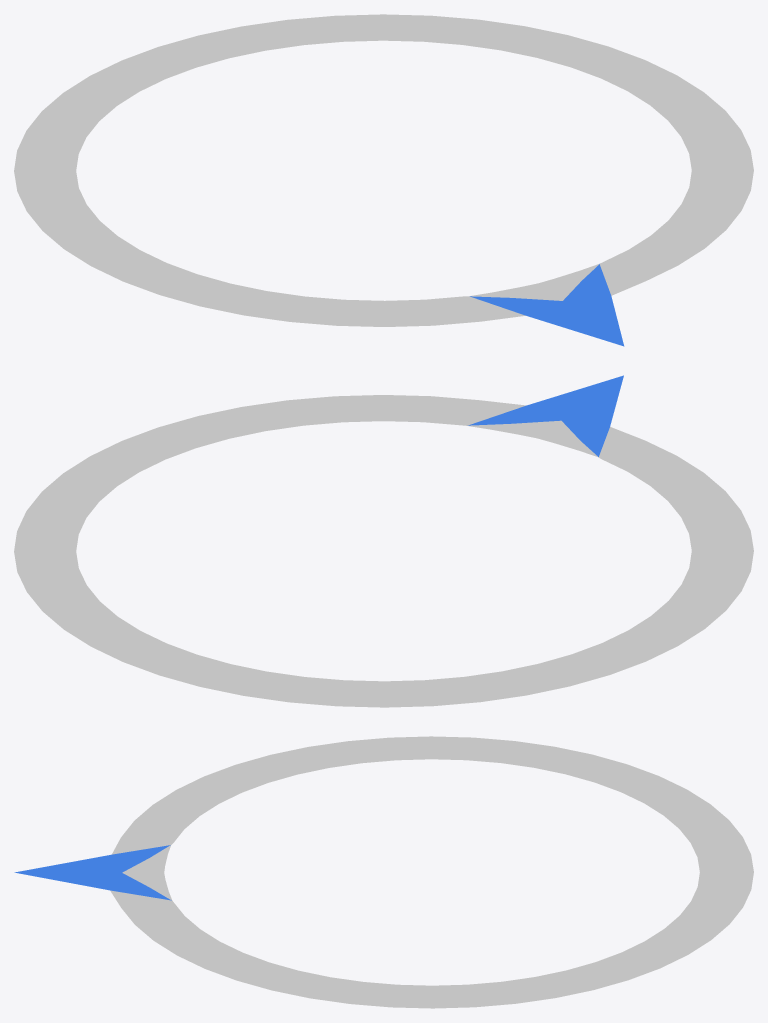
Rendered from RotationHandle.glb.
3 views of the same model, one above another, from view 1: azimuth 30°, elevation 25°; view 2: azimuth 150°, elevation 25°; view 3: azimuth 270°, elevation 25° (orthographic). The views are drawn at different scales.
Parts seen in each view (by area): view 1: Circle; view 2: Circle; view 3: Circle.
Boxes of the visible parts, left/top/right/bottom form: Circle: left=14, top=14, right=753, bottom=346; Circle: left=14, top=375, right=753, bottom=707; Circle: left=14, top=736, right=753, bottom=1008.
Size of the model in its own units: 2 by 0 by 2.3.
